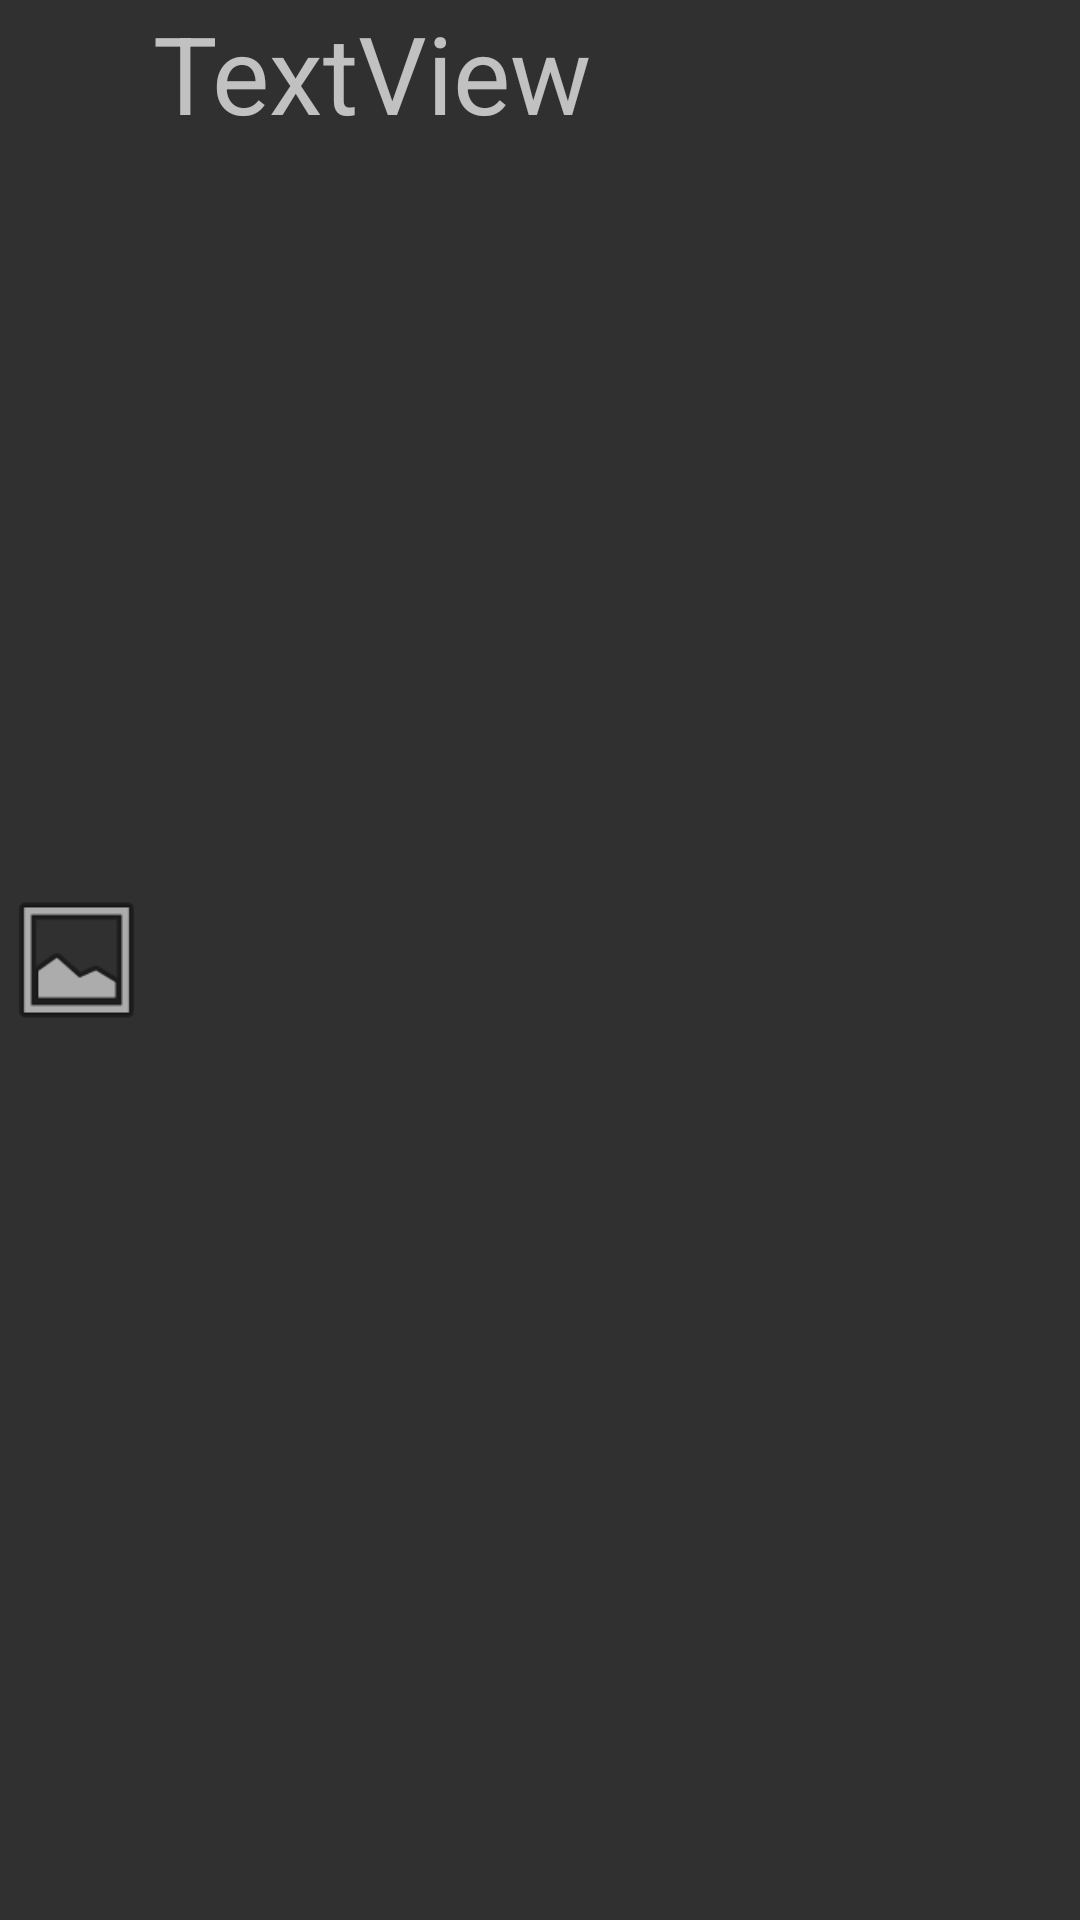

Locate icon controls on the screen. Image size 1080x1920, boxes as (x1=x1, y1=y1, x2=x2, y2=y2).
gallery: (x1=24, y1=906, x2=129, y2=1014)
